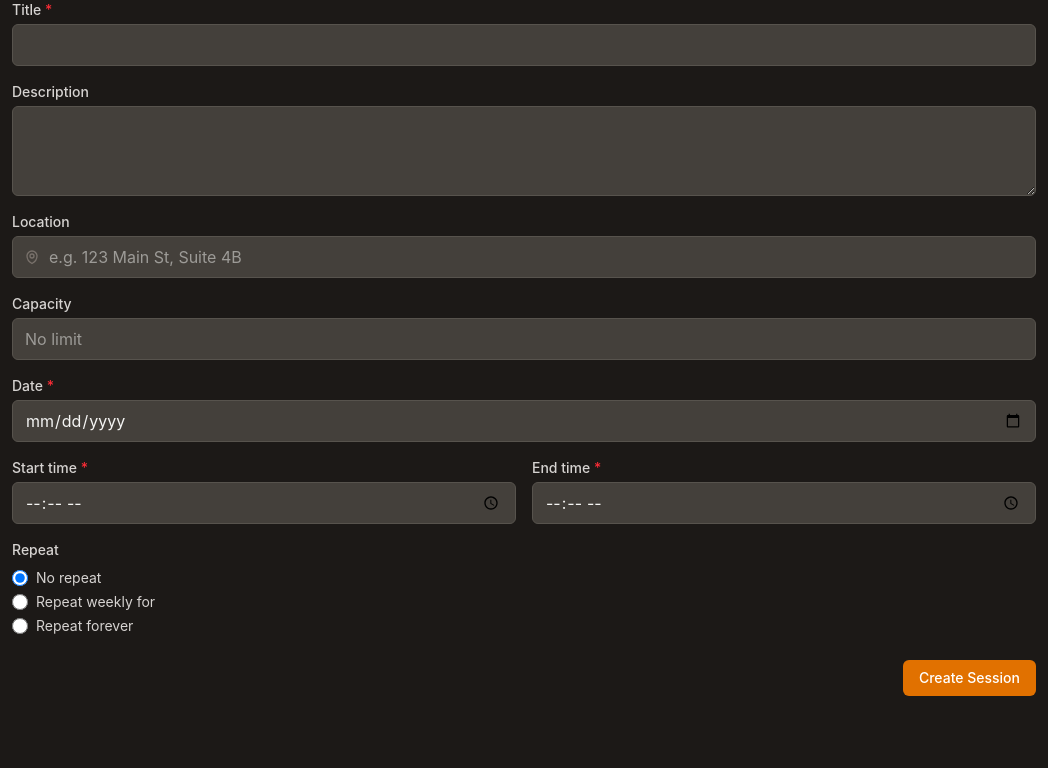
SessionForm › recurrence options › shows day-of-week and interval selectors when repeat forever is selected
Click the radio button labelled "Repeat forever" at (20, 626), box [12,618,28,634]
(page scrolled)
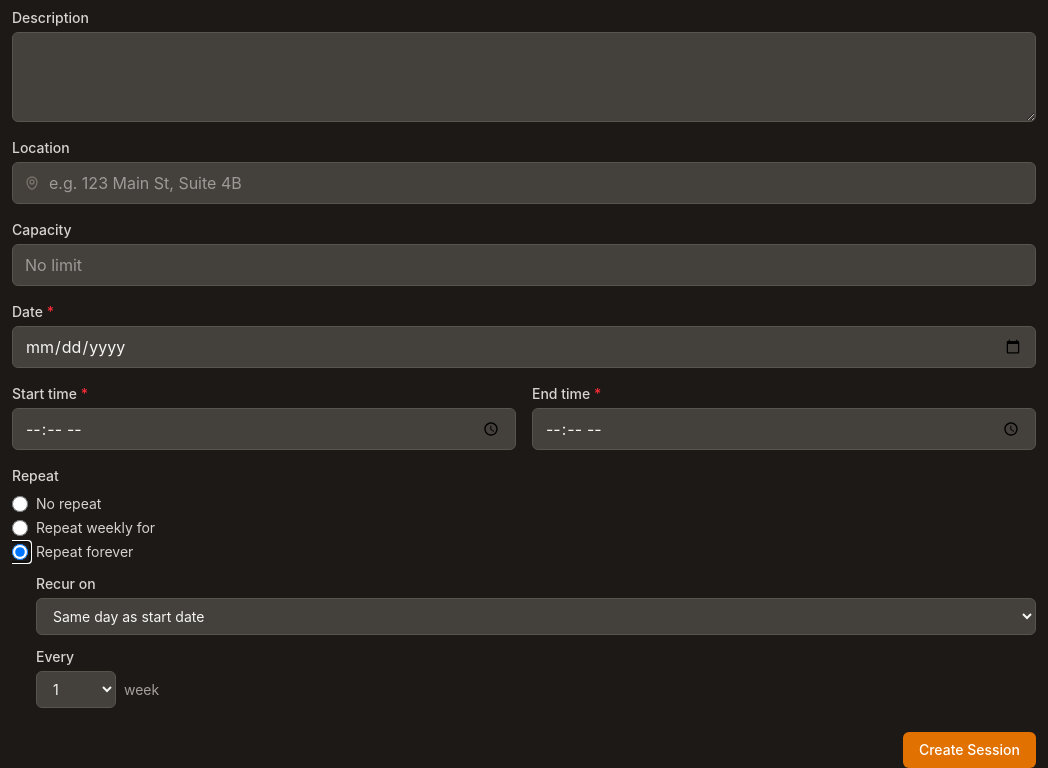
expect the dropdown labelled "Recur on" is shown: met, box [36,598,1036,635]
expect the dropdown labelled "Every" is shown: met, box [36,671,116,708]
